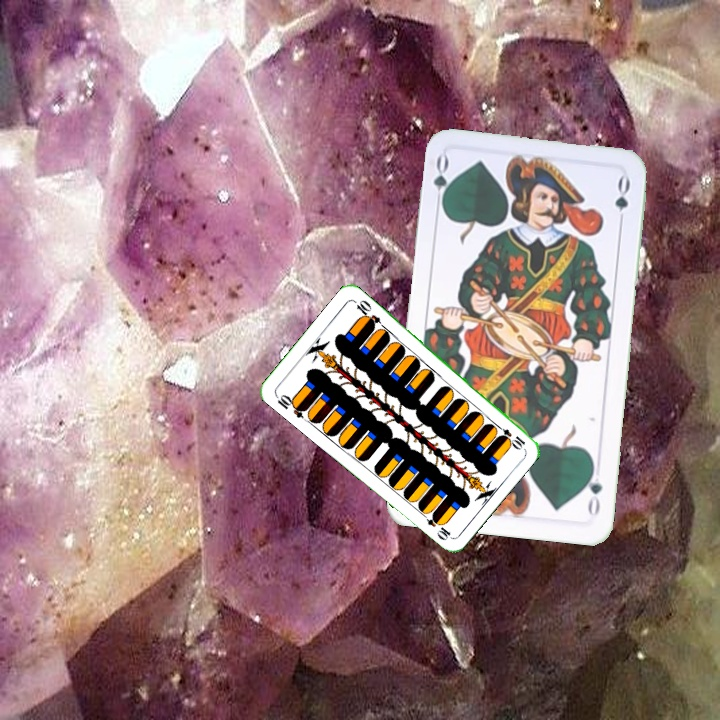E10: (272, 390, 309, 421), (492, 420, 528, 450)
GO: (429, 152, 455, 212), (582, 460, 605, 518)
